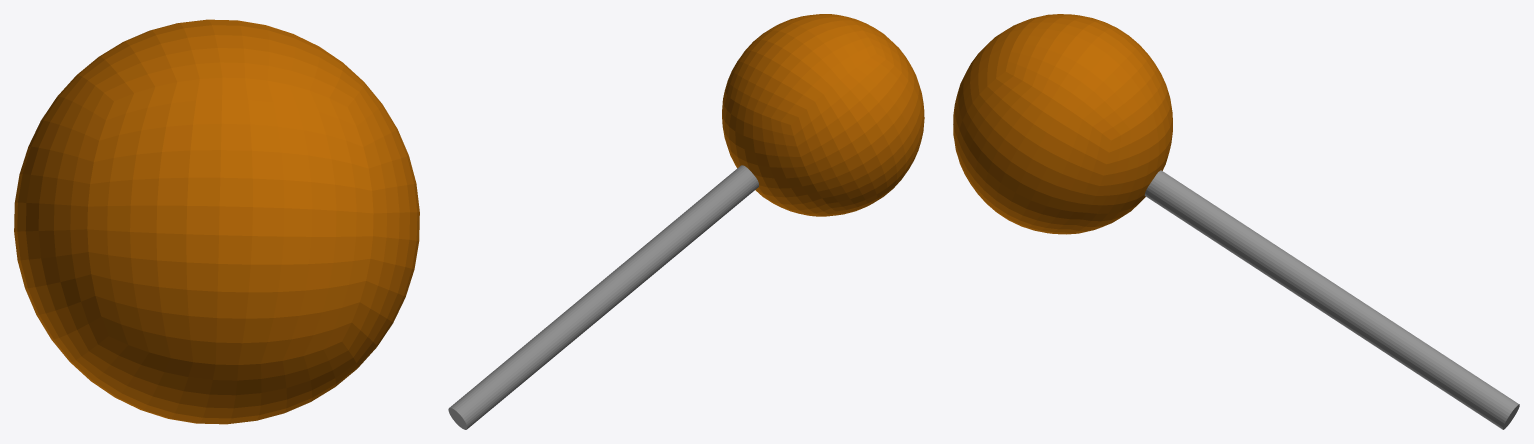
Rendered from stecknadel japan.glb.
3 views of the same model, side by side, from view 1: azimuth 30°, elevation 25°; view 2: azimuth 150°, elevation 25°; view 3: azimuth 270°, elevation 25° (orthographic). The views are drawn at different scales.
Visible parts, largest first — view 1: Zylinder; view 2: Zylinder; view 3: Zylinder.
Part boxes in pixels (box(x1,y1,x2,y2)): Zylinder: box(14, 19, 419, 424); Zylinder: box(448, 14, 924, 429); Zylinder: box(953, 14, 1519, 429).
Bounding box in the file's own units: 0.1336 × 0.1457 × 0.2335.
